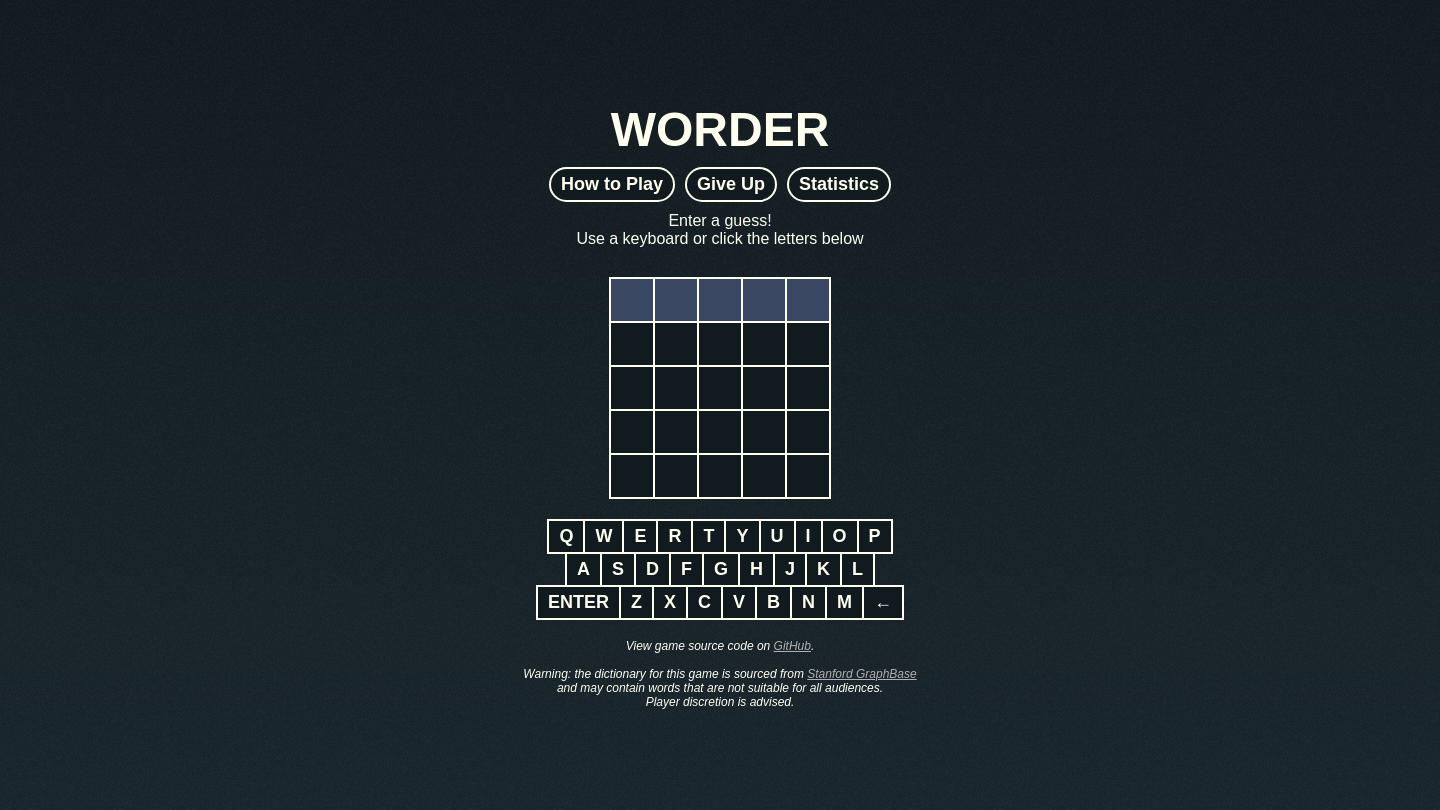
it: App Component › should show error message for short guess
Step 1. Click the button "H" → [756, 569], box [738,552,775,586]
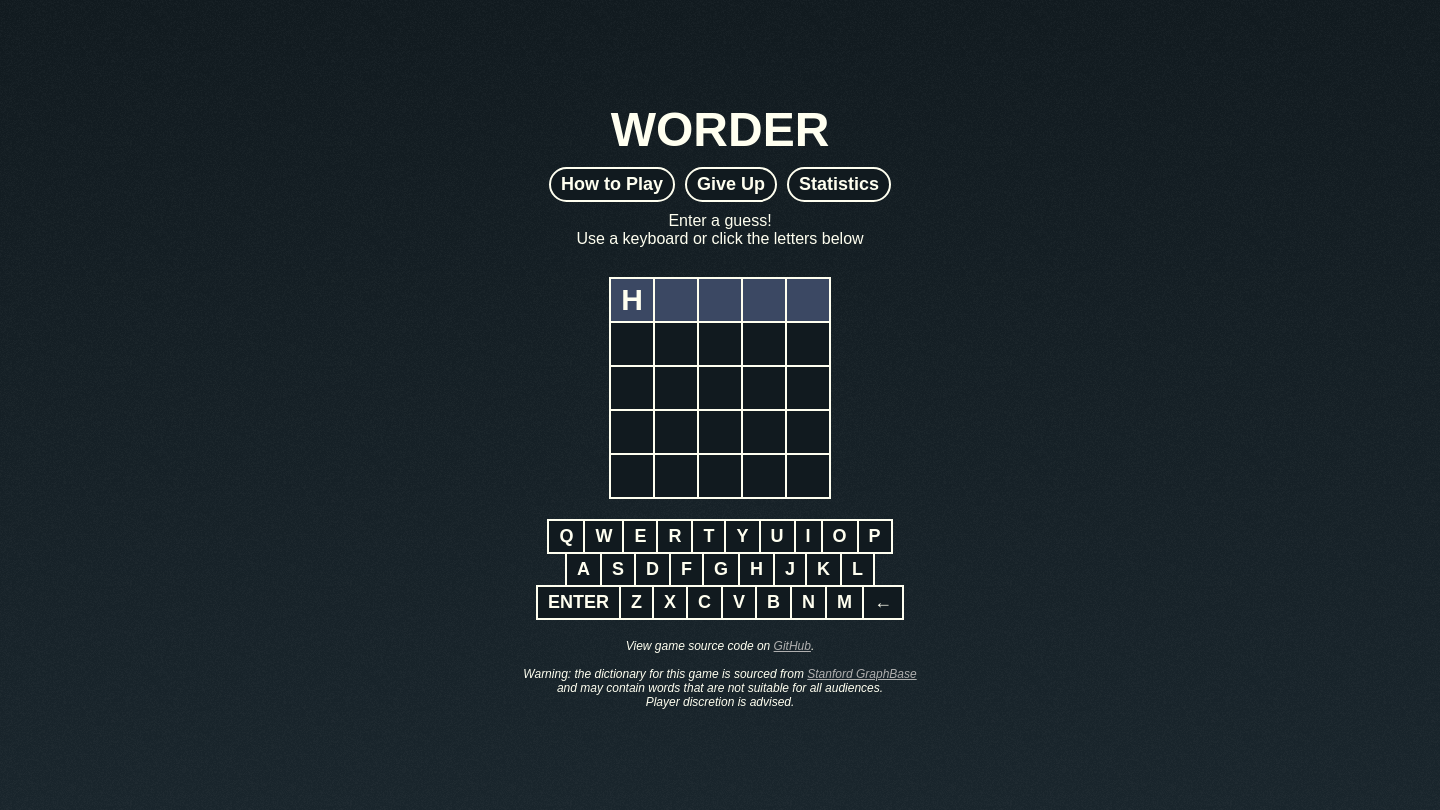
Step 2. Click the button "ENTER" → [578, 602], box [536,584,621,620]
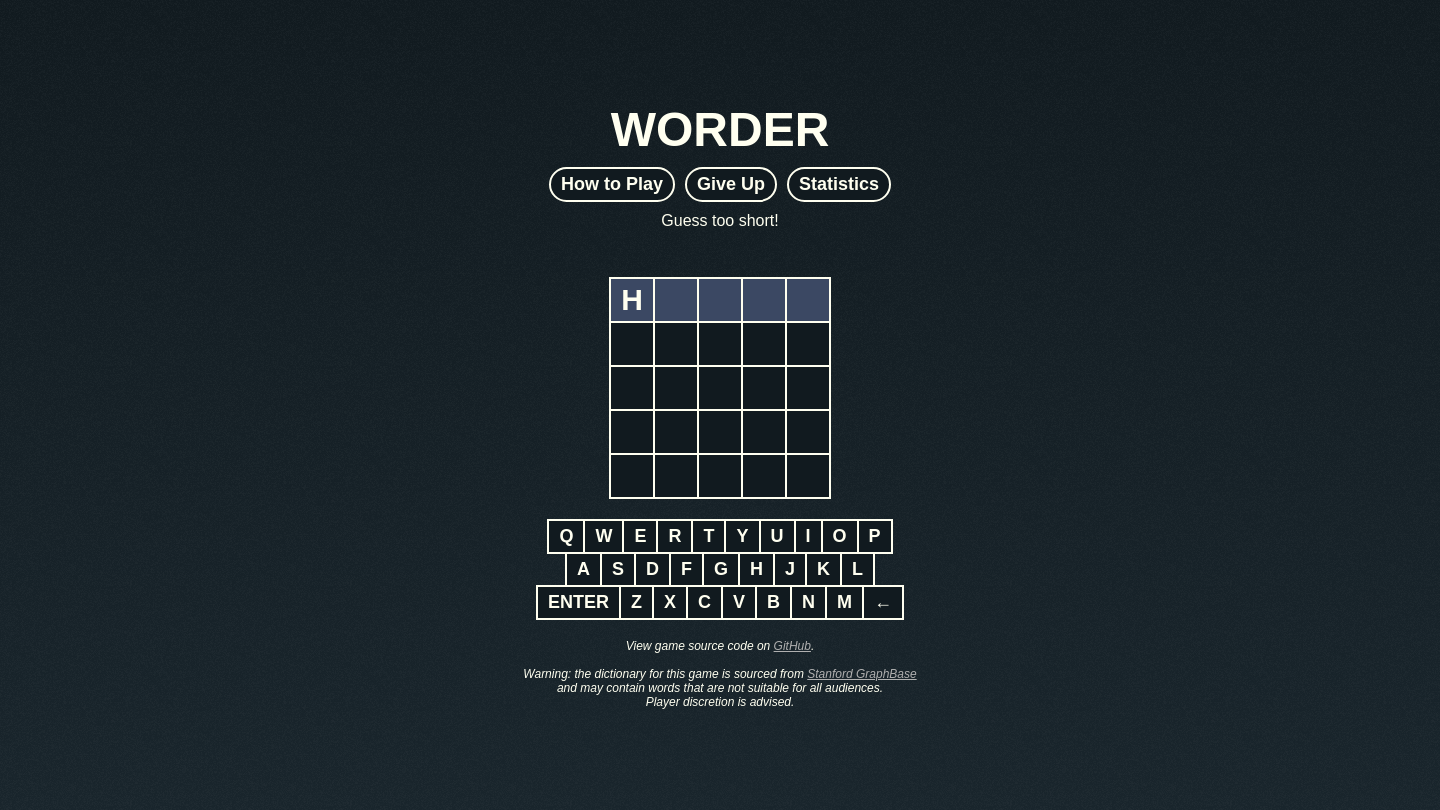
Check: the text "Guess too short!" is shown, box [661,212,779,228]
